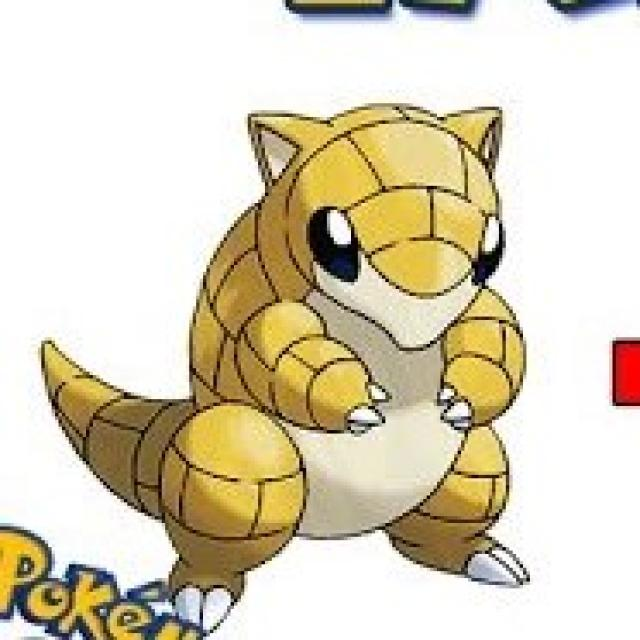Sandshrew: (163, 101, 532, 609)
